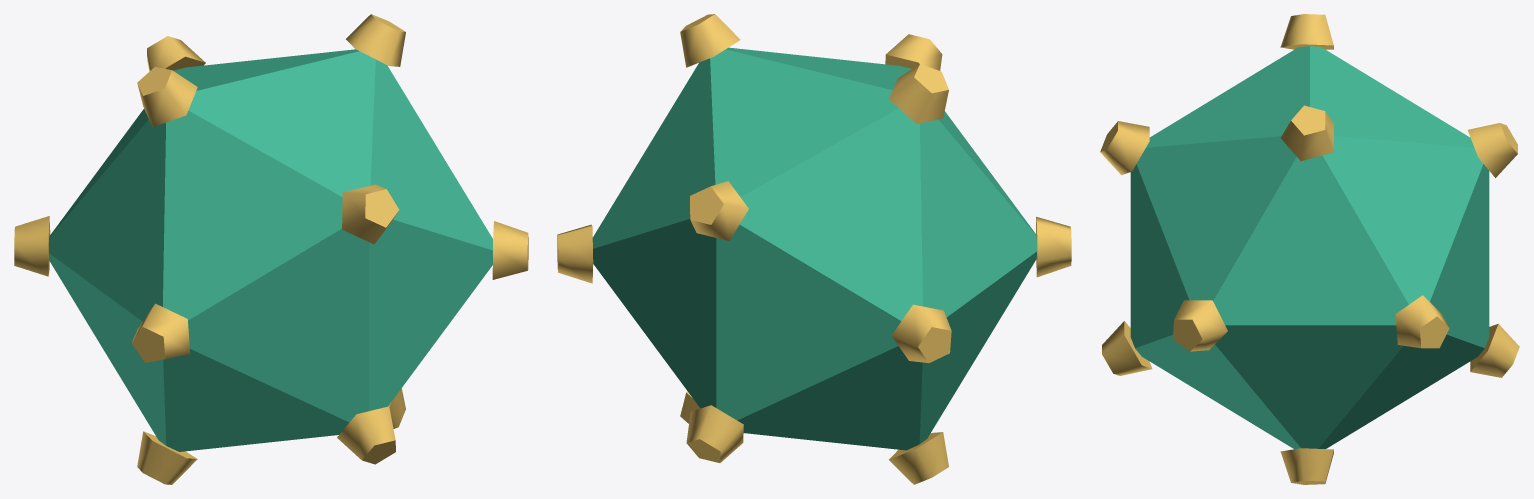
File: phi-x174.glb
3 views of the same model, side by side, from view 1: azimuth 30°, elevation 25°; view 2: azimuth 150°, elevation 25°; view 3: azimuth 270°, elevation 25° (orthographic). The views are drawn at different scales.
Visible parts, largest first — view 1: tamanho; view 2: tamanho; view 3: tamanho.
Part boxes in pixels (left/top/right/bottom): tamanho: left=14, top=14, right=528, bottom=484; tamanho: left=557, top=14, right=1071, bottom=484; tamanho: left=1100, top=14, right=1519, bottom=484.
Bounding box in the file's own units: 0.3999 × 0.3991 × 0.4.
